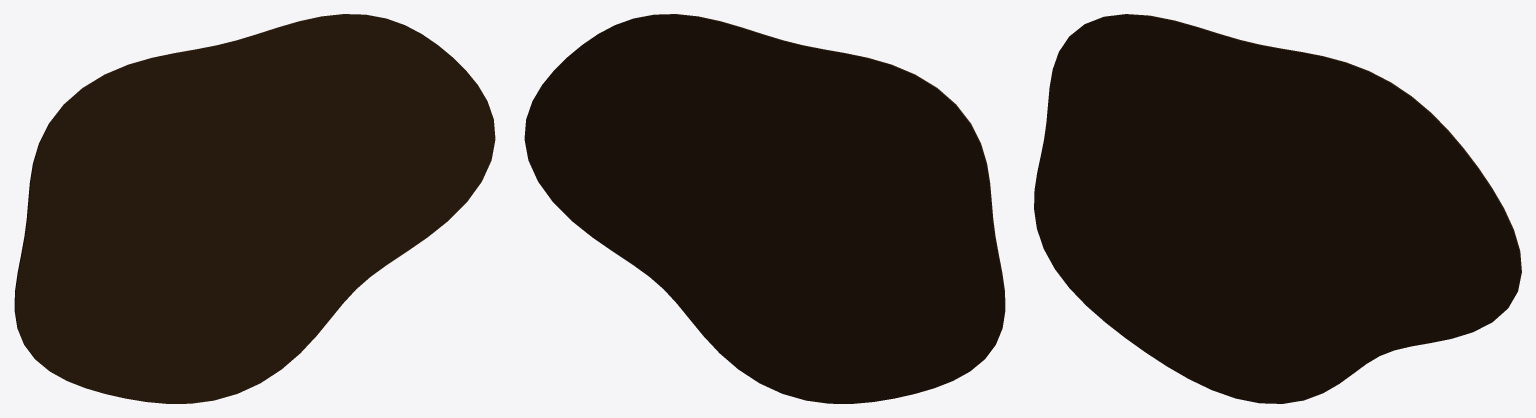
File: fault_oil_puddle.glb
The picture shows the model from 3 angles, left to right: view 1: azimuth 30°, elevation 25°; view 2: azimuth 150°, elevation 25°; view 3: azimuth 330°, elevation 25°; orthographic projection.
Visible parts, largest first — view 1: fault_oil_puddle; view 2: fault_oil_puddle; view 3: fault_oil_puddle.
Boxes of the visible parts, x1,y1,x2,y2 form: fault_oil_puddle: (14, 14, 495, 403); fault_oil_puddle: (524, 14, 1005, 403); fault_oil_puddle: (1034, 14, 1521, 403).
Bounding box in the file's own units: 0.9584 × 0.6823 × 0.003.
